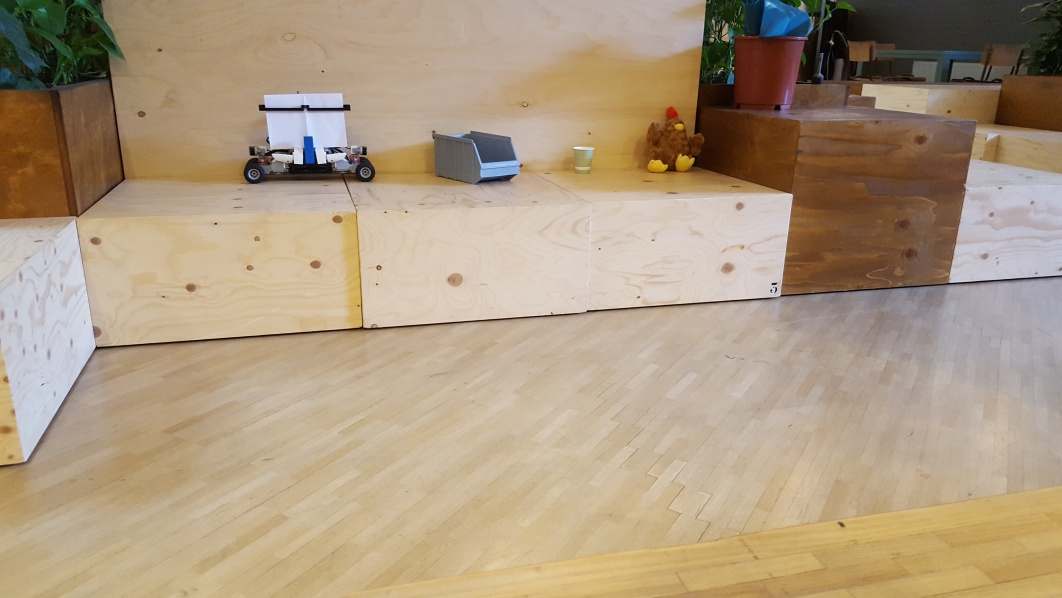beam: (302, 134, 317, 171)
chicken: (643, 105, 710, 174)
cup: (569, 142, 593, 174)
tray: (428, 128, 527, 182)
